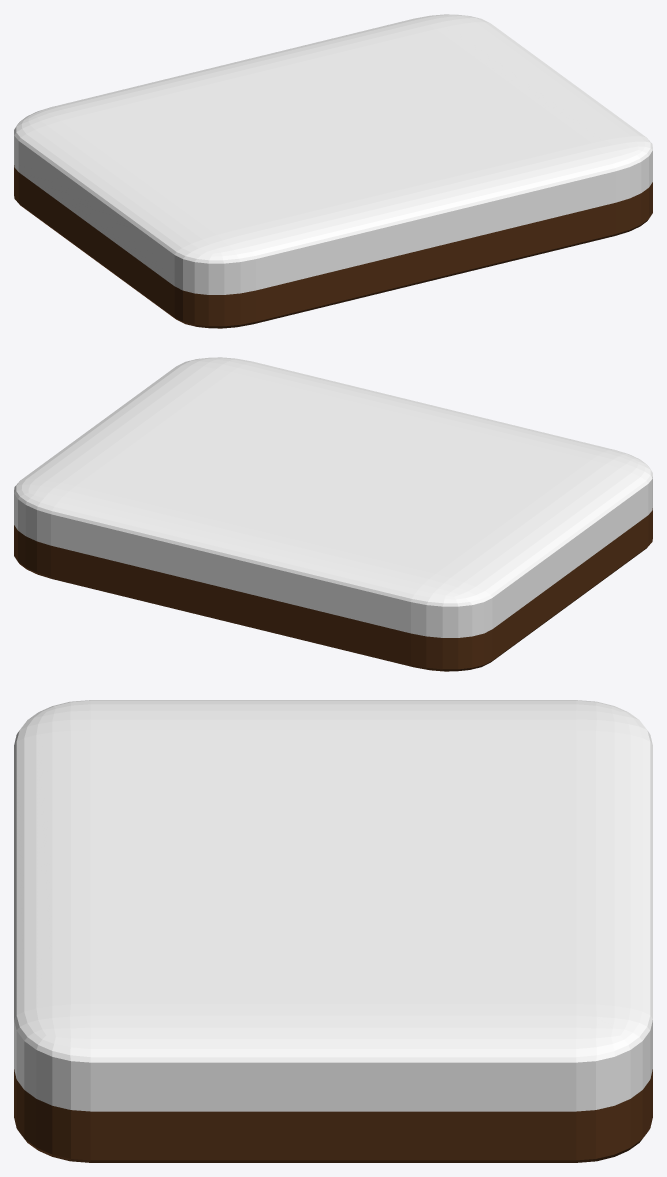
Rendered from Tile_model.fbx.
The picture shows the model from 3 angles, top to bottom: view 1: azimuth 30°, elevation 25°; view 2: azimuth 150°, elevation 25°; view 3: azimuth 270°, elevation 25°; orthographic projection. The views are drawn at different scales.
Parts seen in each view (by area): view 1: Cube; view 2: Cube; view 3: Cube.
Part boxes in pixels (x1,y1,x2,y2): Cube: [14, 14, 652, 328]; Cube: [14, 357, 652, 671]; Cube: [14, 700, 652, 1162].
Bounding box in the file's own units: 60 × 10 × 45.
